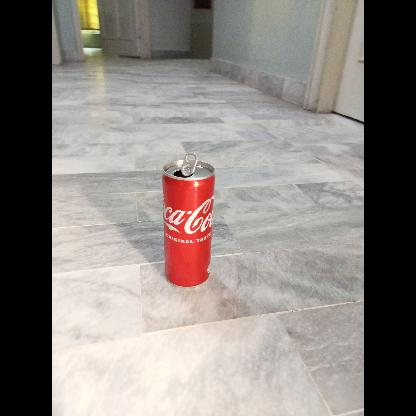Lid_Open: (171, 150, 201, 180)
Tin_Can: (162, 152, 216, 288)
